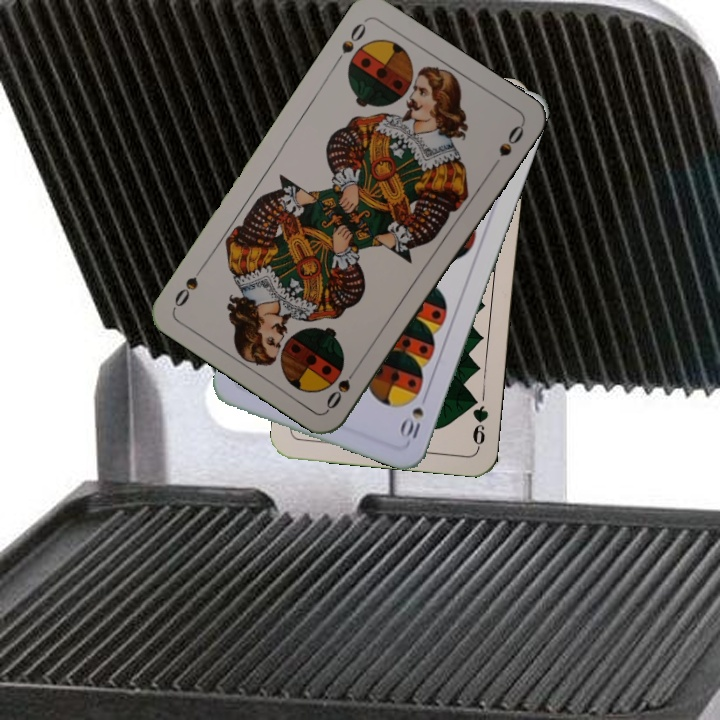G9: (466, 391, 491, 451)
S10: (397, 388, 431, 444)
SO: (321, 360, 361, 412), (330, 16, 369, 68)
